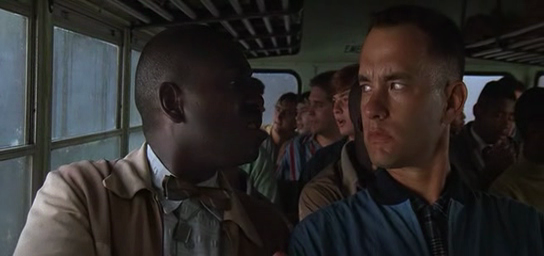cu: (1, 1, 544, 256)
face: (358, 46, 429, 169), (454, 80, 518, 194), (211, 51, 264, 163), (489, 100, 515, 143), (331, 92, 354, 136), (306, 92, 327, 135), (273, 105, 290, 133), (294, 103, 306, 134)
person: (274, 3, 544, 256), (12, 23, 292, 256), (488, 86, 544, 212)
